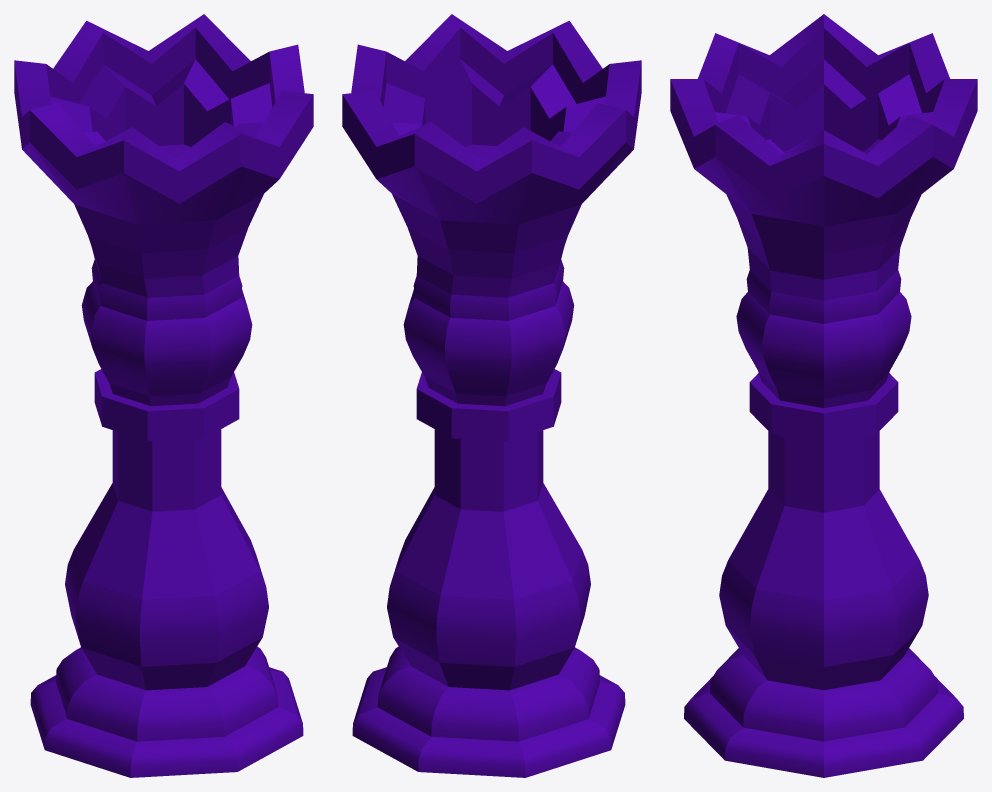
File: reina.fbx
3 views of the same model, side by side, from view 1: azimuth 30°, elevation 25°; view 2: azimuth 150°, elevation 25°; view 3: azimuth 270°, elevation 25° (orthographic).
Visible parts, largest first — view 1: reina2; view 2: reina2; view 3: reina2.
Part boxes in pixels (x1,y1,x2,y2): reina2: [14, 14, 313, 777]; reina2: [342, 14, 641, 777]; reina2: [670, 14, 977, 777].
Bounding box in the file's own units: 1.77 × 4.05 × 1.77.
